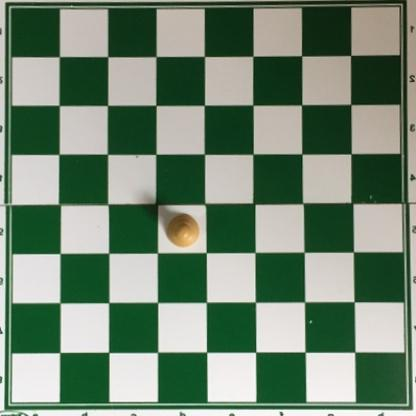white-pawn: (165, 211, 201, 248)
